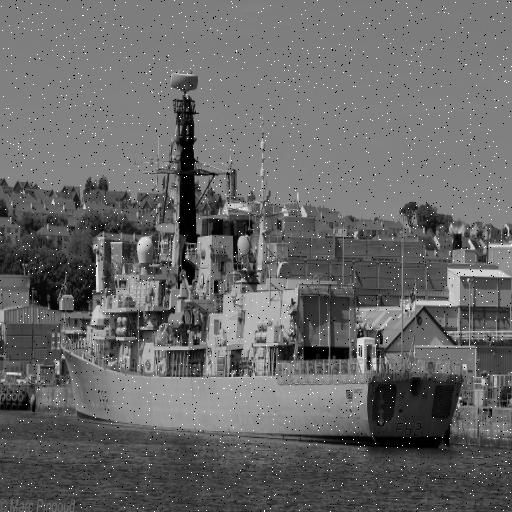Fragata: (59, 64, 470, 452)
